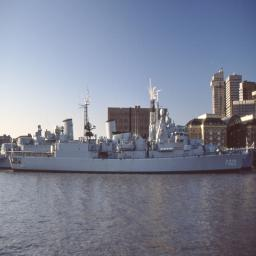Fragata: (10, 82, 256, 176)
